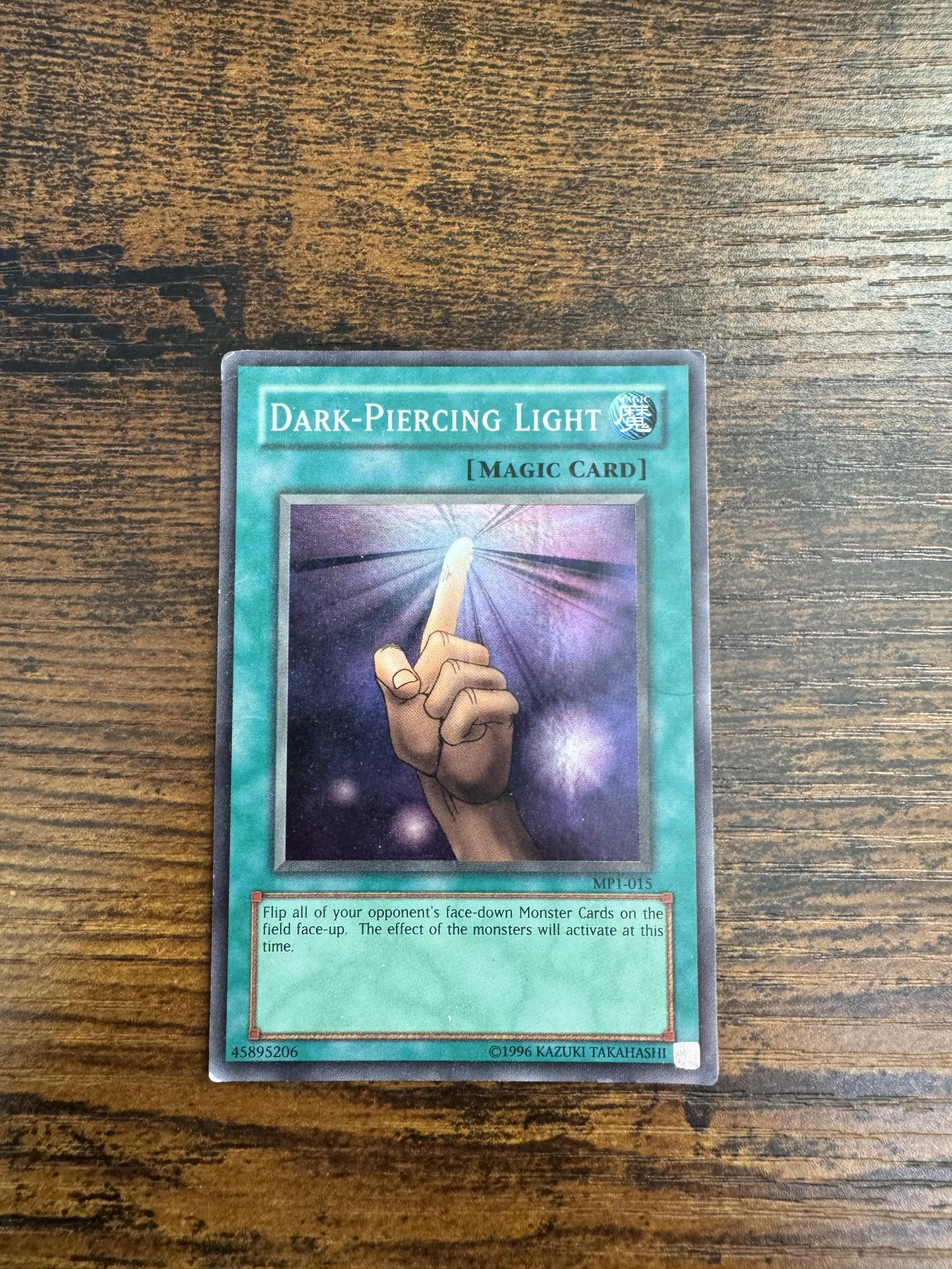card-2UtV: (208, 349, 719, 1086)
